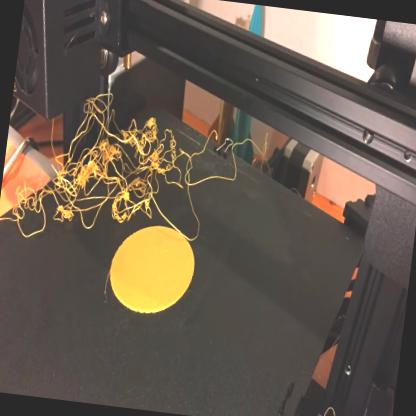fail: (2, 79, 188, 256)
